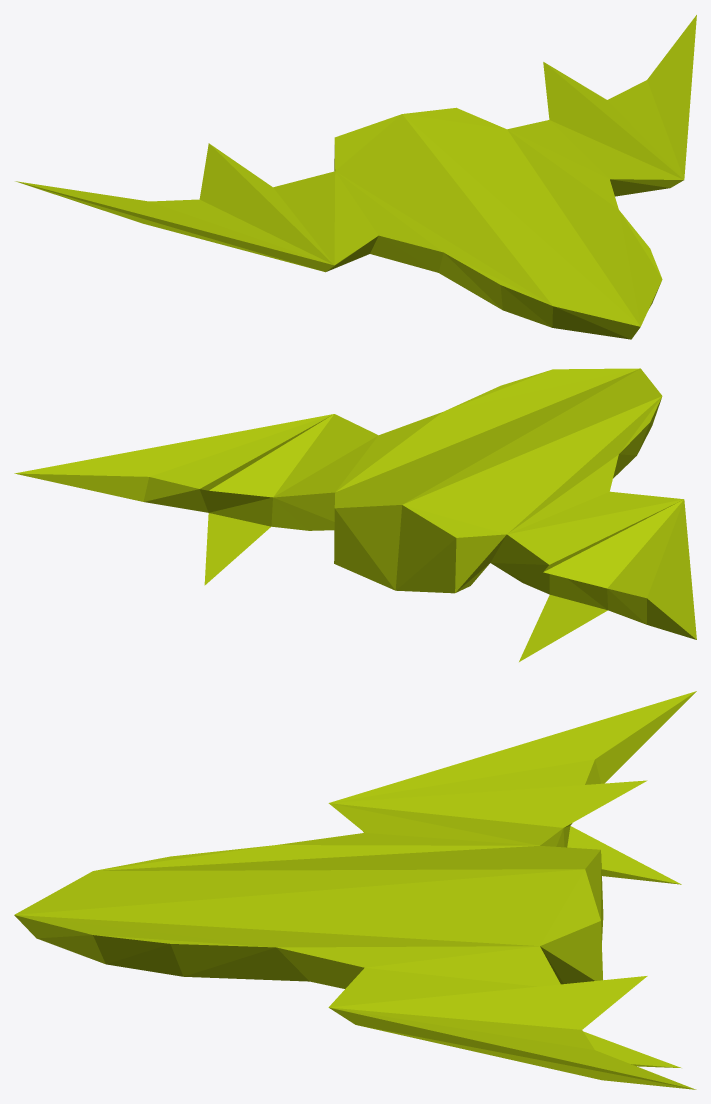
The model's file is spark.obj.
3 views of the same model, one above another, from view 1: azimuth 30°, elevation 25°; view 2: azimuth 150°, elevation 25°; view 3: azimuth 270°, elevation 25° (orthographic). The views are drawn at different scales.
Visible parts, largest first — view 1: Plane; view 2: Plane; view 3: Plane.
Part boxes in pixels (left/top/right/bottom): Plane: left=15, top=15, right=696, bottom=339; Plane: left=14, top=368, right=696, bottom=661; Plane: left=14, top=691, right=696, bottom=1089.
Bounding box in the file's own units: 2.01 × 0.2526 × 1.46.
